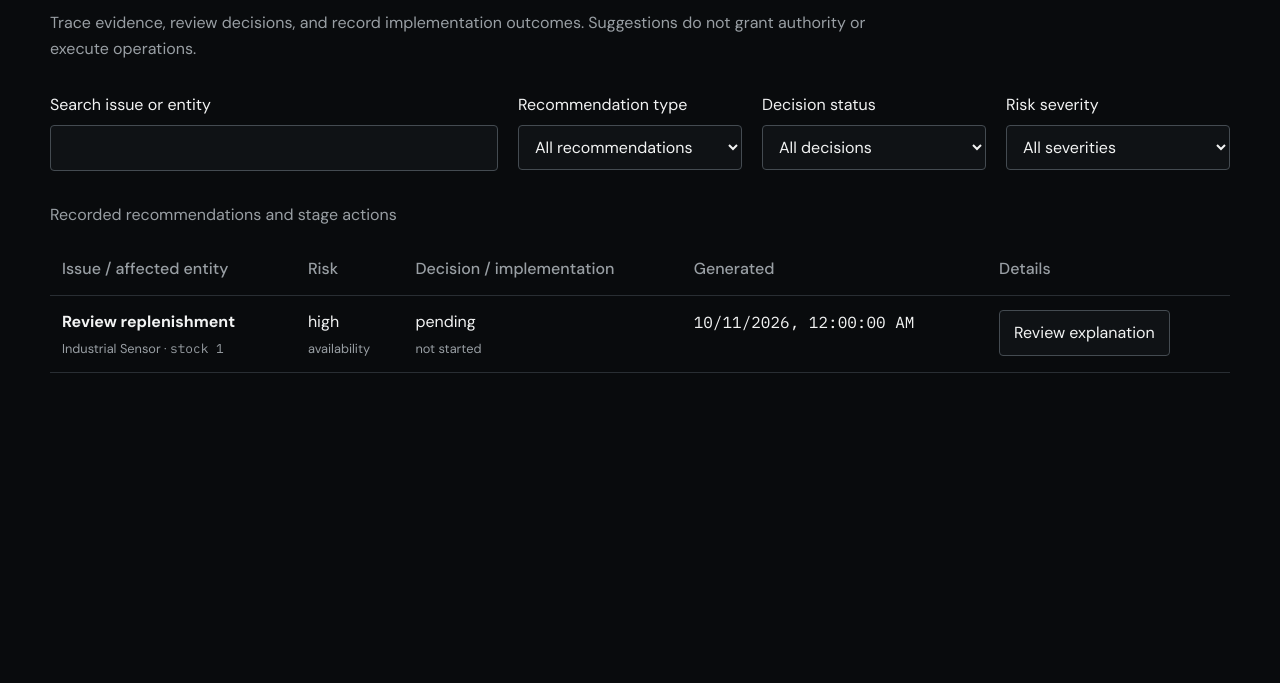
Test: requires separate confirmation before a decision request
Step 1. Click the button with aria-label "Review stock recommendation 1" → (1084, 333), box [999,310,1170,356]
(page scrolled)
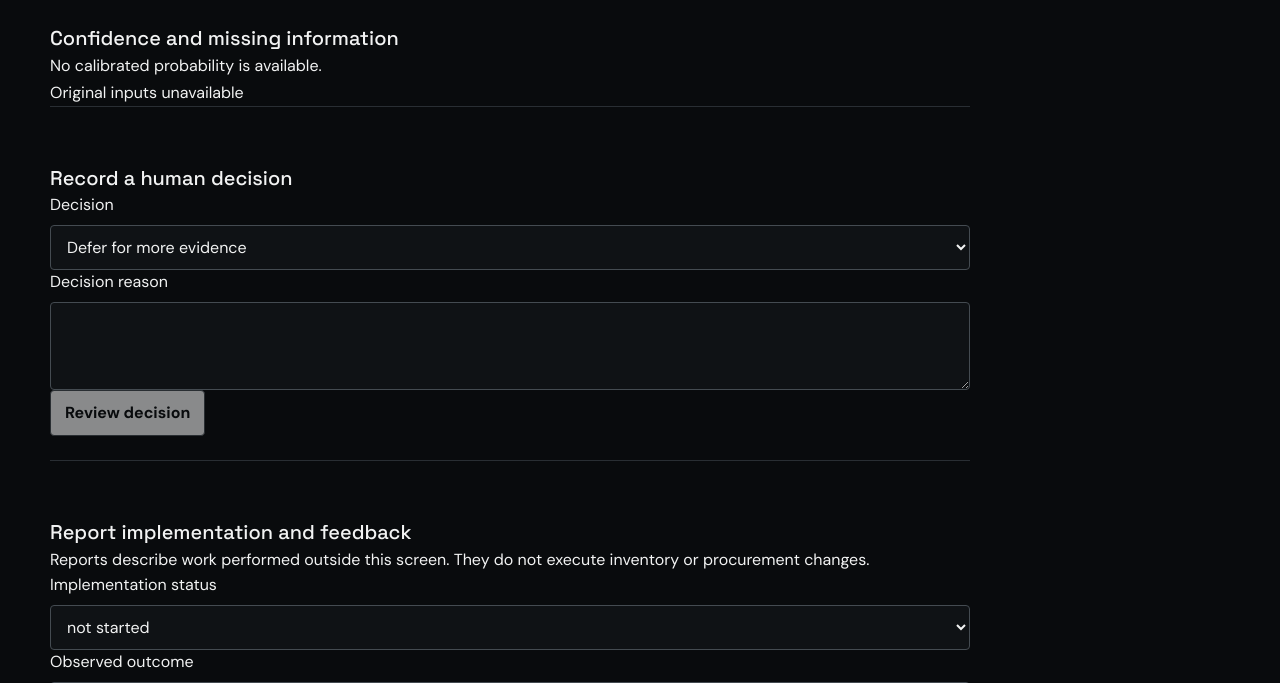
Step 2. Type "Wait for source verification" into the text box labelled "Decision reason" → (510, 346), box [50,302,970,390]
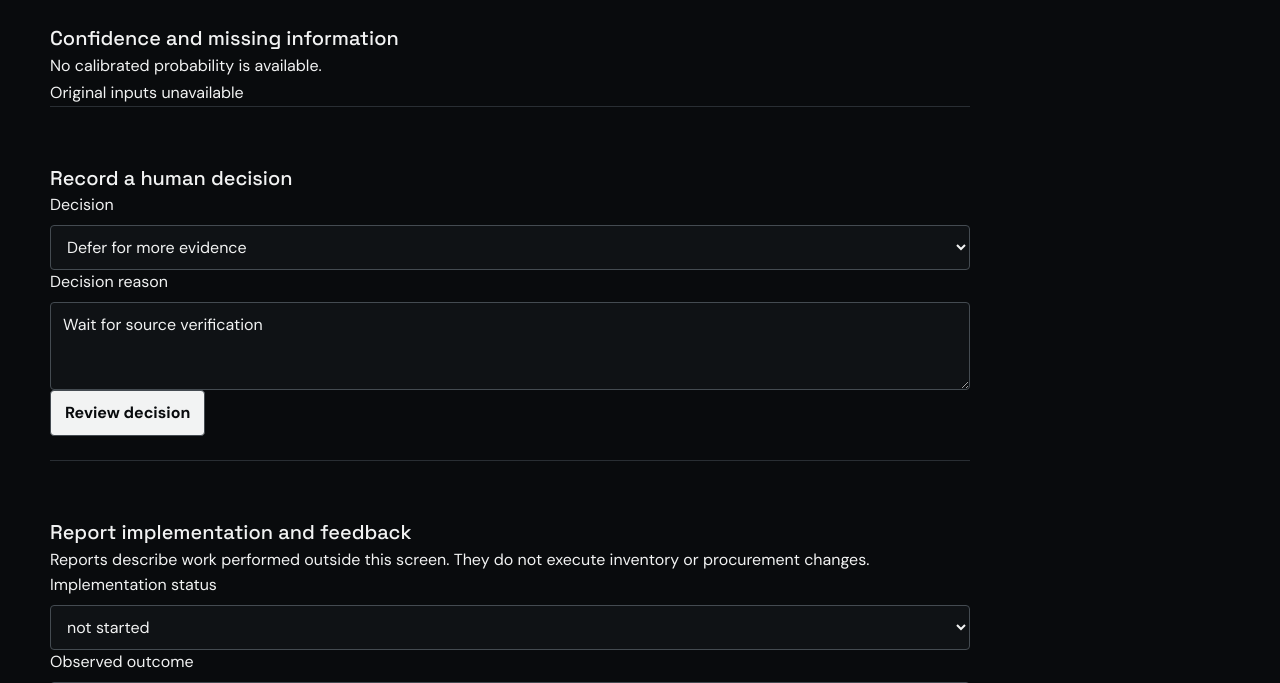
Step 3. Click the button "Review decision" → (128, 413), box [50,390,205,436]
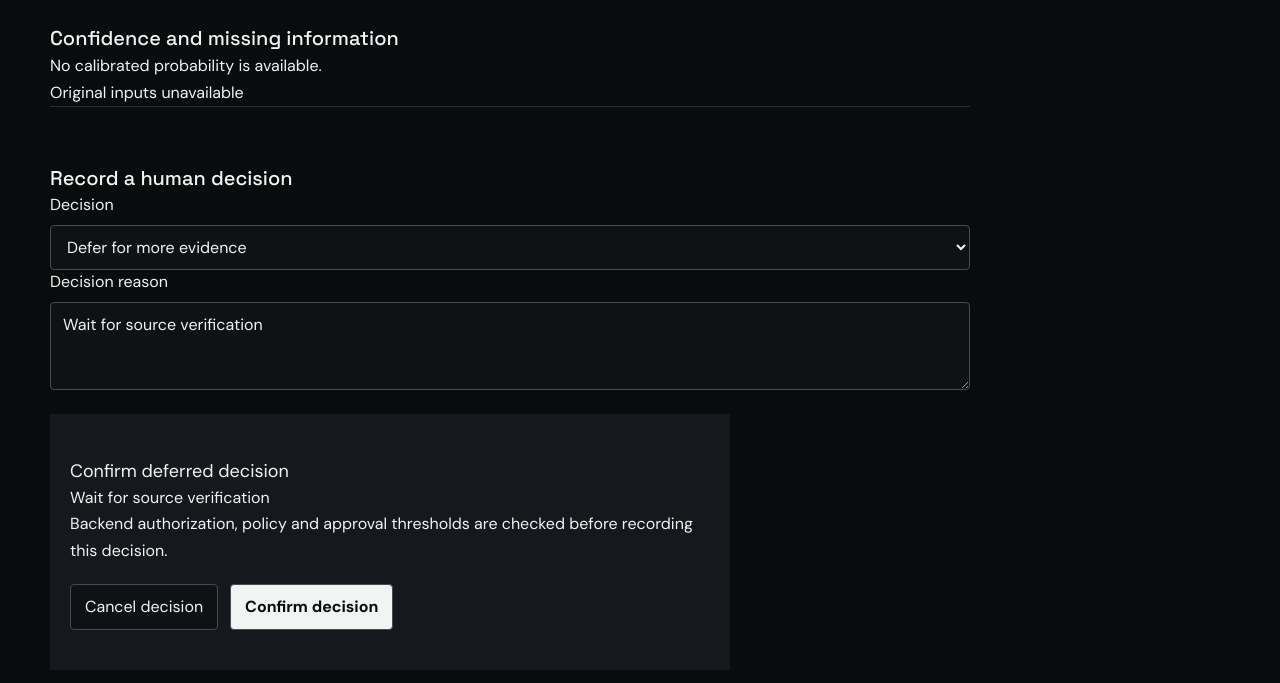
Step 4. Click the button "Confirm decision" → (312, 607), box [230,584,393,630]
(page scrolled)
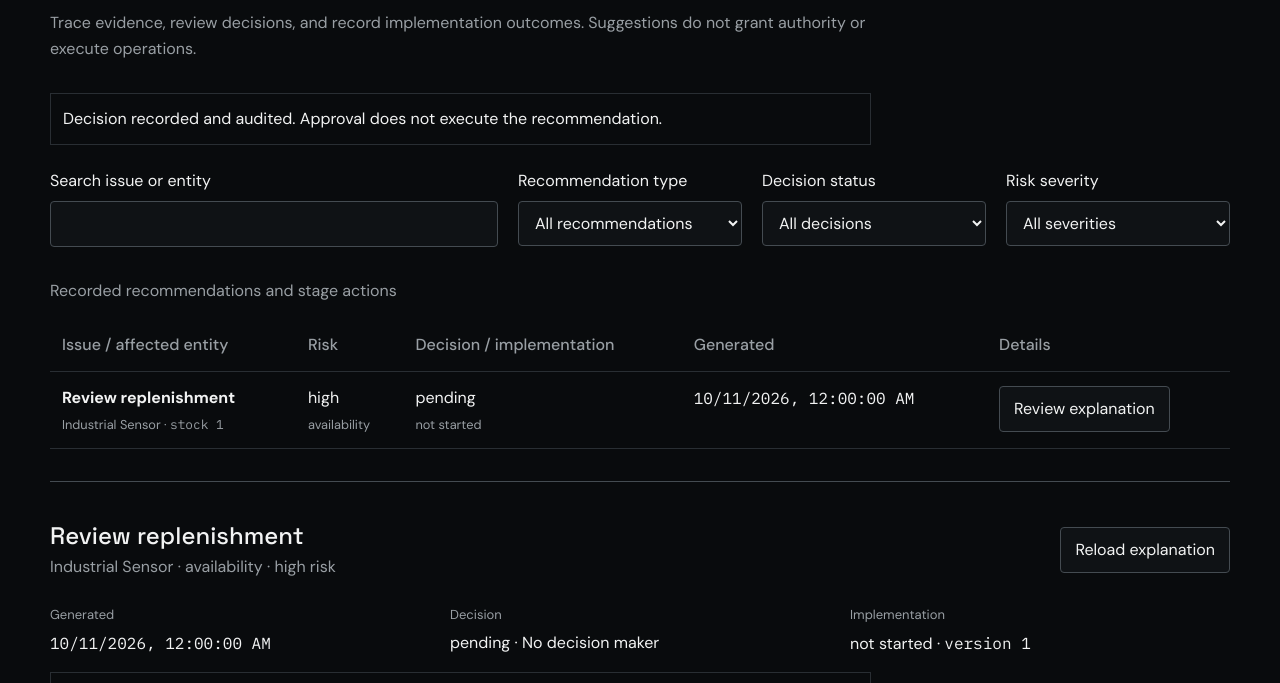
expect the message shows "Decision recorded": met, box [63,108,662,129]
